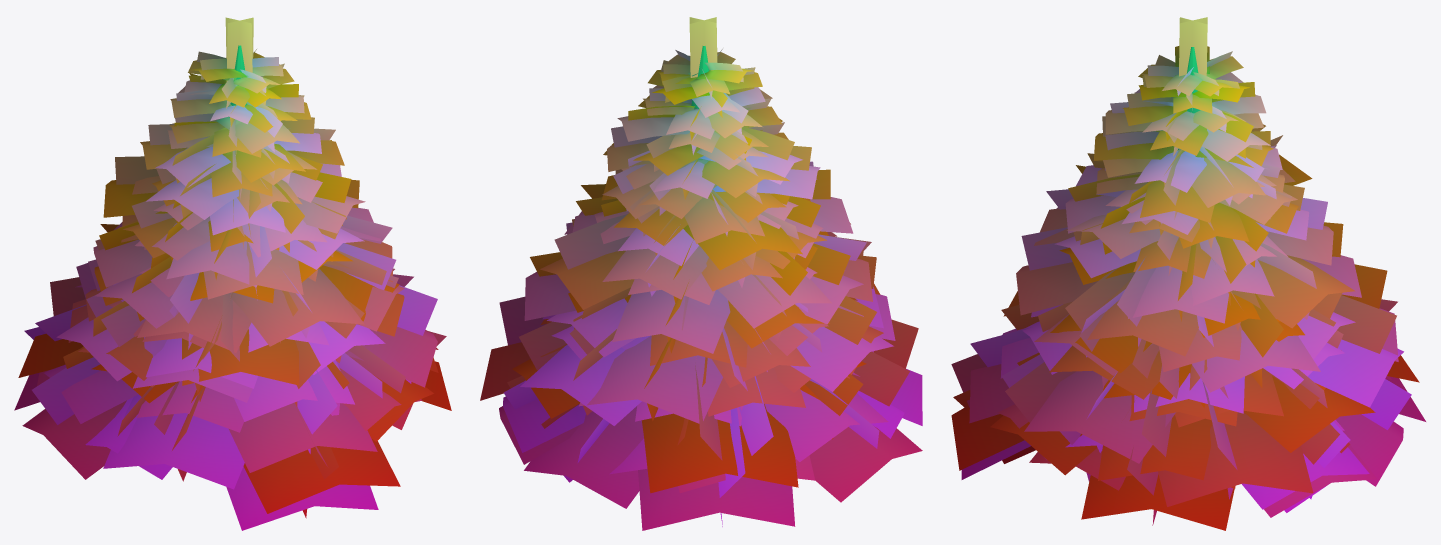
File: SM_Tree_Pine_05.fbx
3 views of the same model, side by side, from view 1: azimuth 30°, elevation 25°; view 2: azimuth 150°, elevation 25°; view 3: azimuth 270°, elevation 25° (orthographic). The views are drawn at different scales.
Parts seen in each view (by area): view 1: SM_Tree_Pine_05_LOD0; view 2: SM_Tree_Pine_05_LOD0; view 3: SM_Tree_Pine_05_LOD0.
Part boxes in pixels (x1,y1,x2,y2): SM_Tree_Pine_05_LOD0: [14, 17, 451, 530]; SM_Tree_Pine_05_LOD0: [480, 17, 922, 530]; SM_Tree_Pine_05_LOD0: [951, 17, 1425, 530].
Size of what is drawn, in the model's own units: 12.96 by 14.1 by 13.33.
